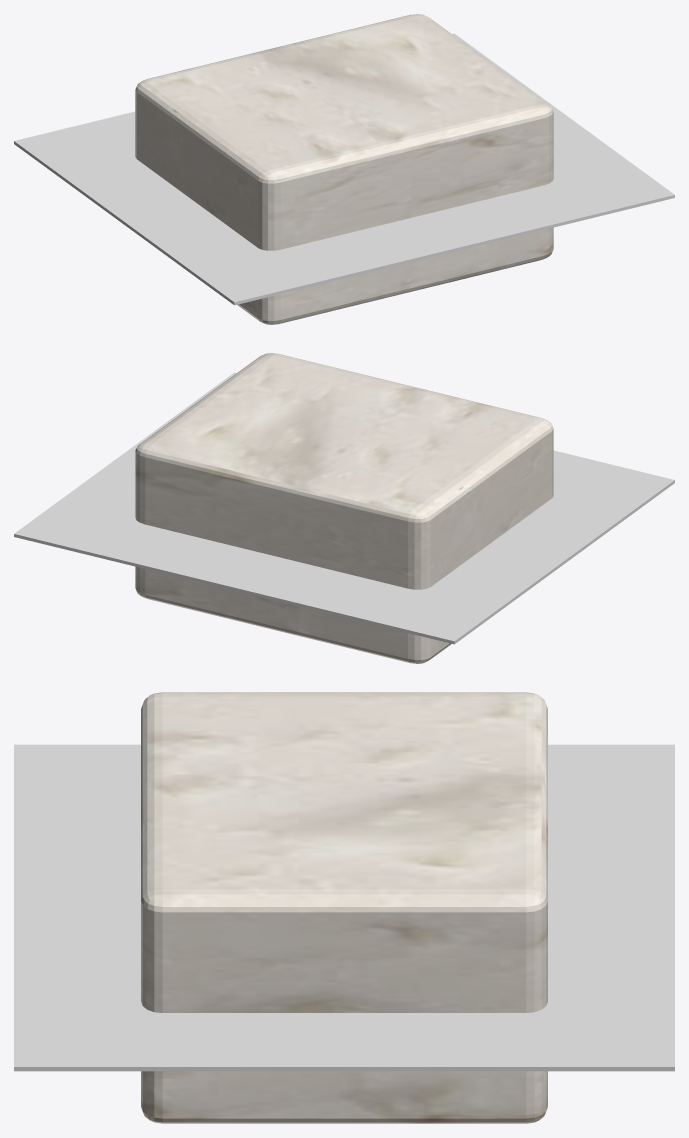
File: Feta.fbx
The picture shows the model from 3 angles, top to bottom: view 1: azimuth 30°, elevation 25°; view 2: azimuth 150°, elevation 25°; view 3: azimuth 270°, elevation 25°; orthographic projection. The views are drawn at different scales.
Parts seen in each view (by area): view 1: Oben, Schnitt, Unten; view 2: Oben, Schnitt, Unten; view 3: Oben, Schnitt, Unten.
Part boxes in pixels (x1,y1,x2,y2): Oben: (135,14,553,250); Schnitt: (14,33,674,305); Unten: (237,227,553,324); Oben: (135,353,553,589); Schnitt: (14,372,674,644); Unten: (135,566,451,663); Oben: (141,692,547,1012); Schnitt: (14,744,674,1071); Unten: (141,1071,547,1123).
Size of the model in its own units: 300 by 100 by 260.
